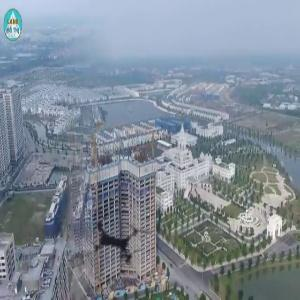drone: (70, 189, 169, 288)
